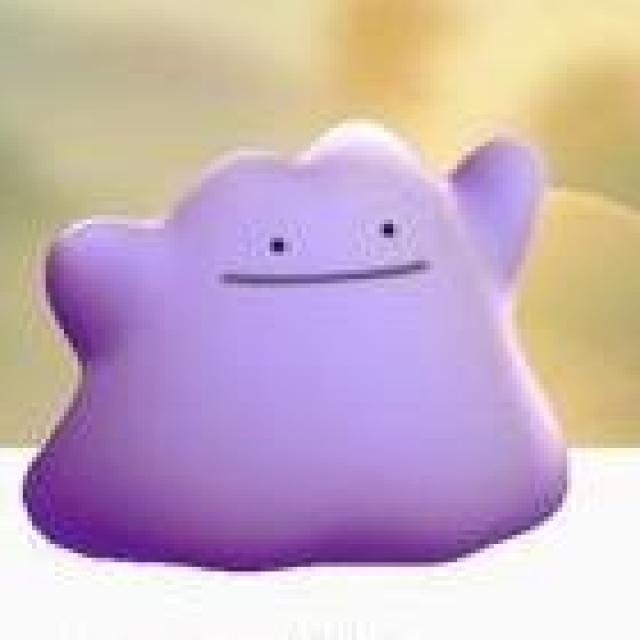Ditto: (22, 119, 574, 574)
